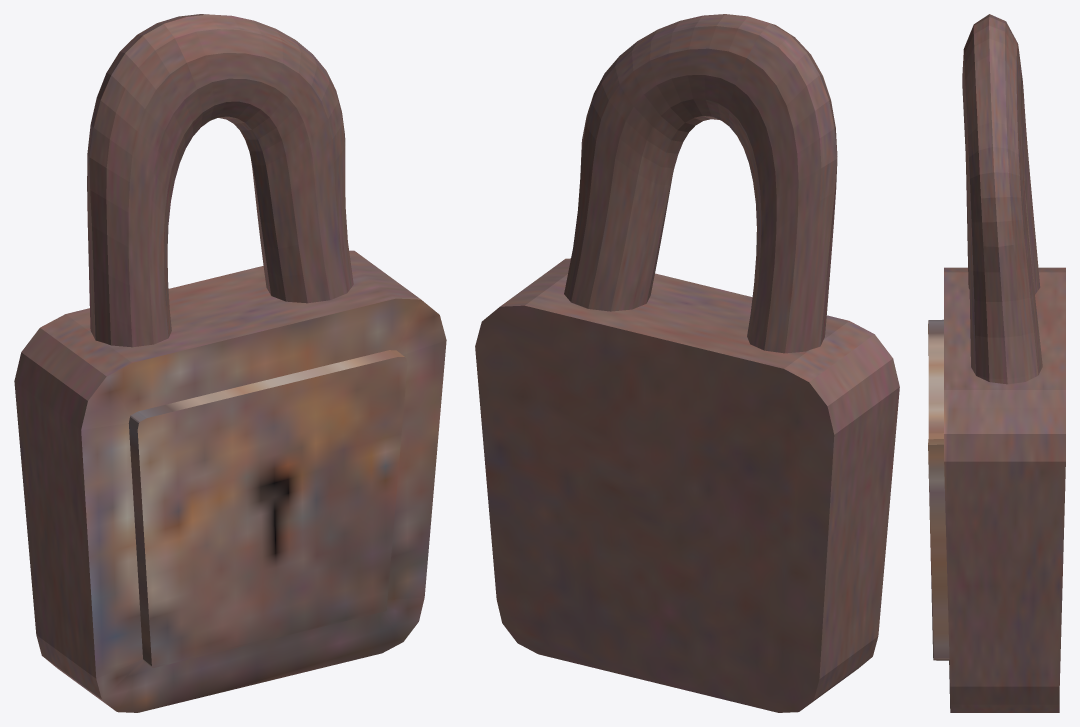
The model's file is CANDADO1.fbx.
3 views of the same model, side by side, from view 1: azimuth 30°, elevation 25°; view 2: azimuth 150°, elevation 25°; view 3: azimuth 270°, elevation 25° (orthographic). The views are drawn at different scales.
Parts seen in each view (by area): view 1: Cube, Torus; view 2: Cube, Torus; view 3: Cube, Torus.
Part boxes in pixels (left/top/right/bottom): Cube: left=14, top=250, right=446, bottom=712; Torus: left=87, top=14, right=353, bottom=347; Cube: left=475, top=258, right=899, bottom=712; Torus: left=564, top=14, right=837, bottom=353; Cube: left=928, top=267, right=1065, bottom=712; Torus: left=962, top=14, right=1042, bottom=384.
Size of the model in its own units: 200 by 347 by 71.61.
